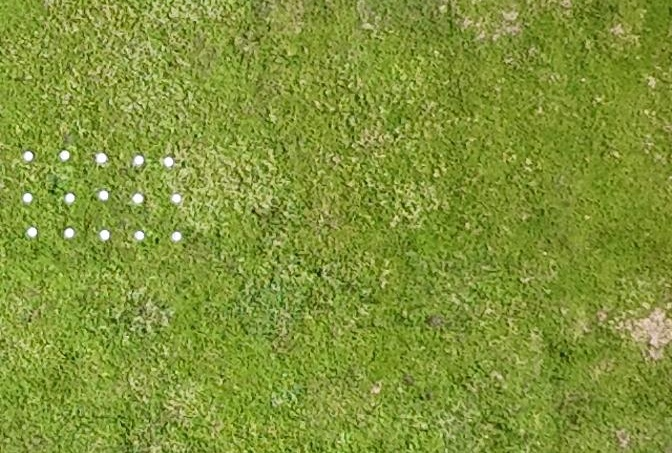bowl: (22, 192, 34, 204), (23, 150, 34, 162), (27, 226, 38, 238), (96, 152, 107, 164), (100, 229, 111, 241), (132, 193, 144, 204), (60, 150, 71, 161), (64, 227, 74, 239), (65, 192, 75, 203), (135, 230, 145, 241), (171, 193, 181, 204), (172, 231, 182, 242), (99, 191, 109, 201), (135, 155, 145, 165), (164, 157, 174, 167)
